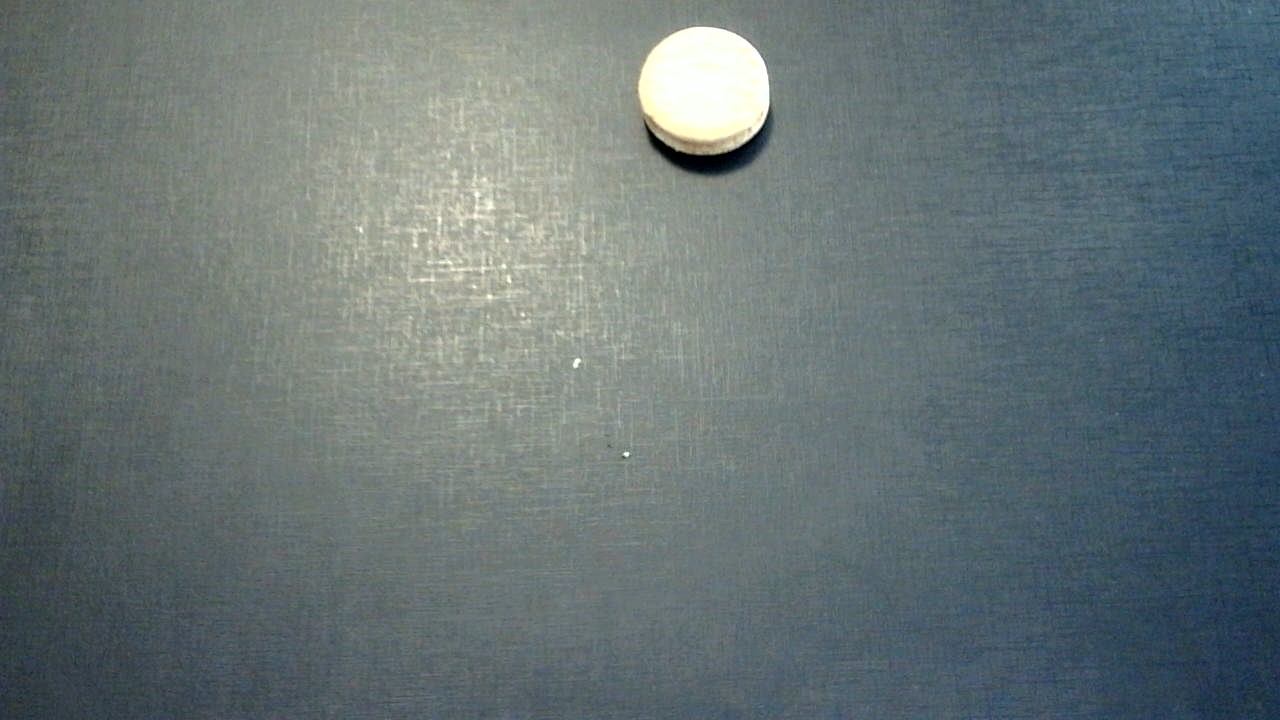lulu: (637, 26, 772, 156)
